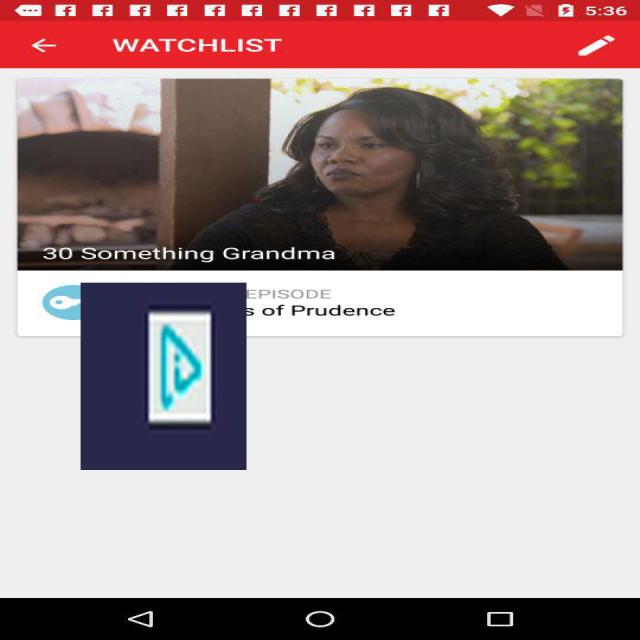sneaking: (80, 283, 247, 470)
